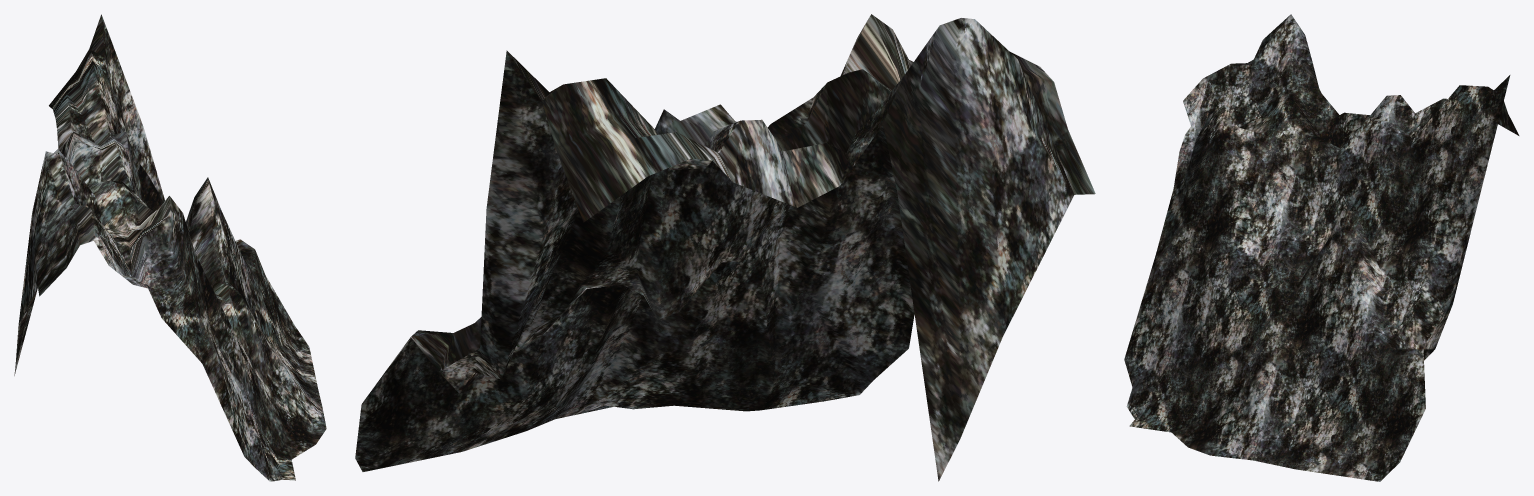
File: OVERHILL_A_01_MOUN1_OBJECT151.fbx
The picture shows the model from 3 angles, left to right: view 1: azimuth 30°, elevation 25°; view 2: azimuth 150°, elevation 25°; view 3: azimuth 270°, elevation 25°; orthographic projection. The views are drawn at different scales.
Parts seen in each view (by area): view 1: OVERHILL_A_01_MOUN1_OBJECT151; view 2: OVERHILL_A_01_MOUN1_OBJECT151; view 3: OVERHILL_A_01_MOUN1_OBJECT151.
Boxes of the visible parts, box(x1,y1,x2,y2) form: OVERHILL_A_01_MOUN1_OBJECT151: box(14, 14, 326, 481); OVERHILL_A_01_MOUN1_OBJECT151: box(355, 14, 1095, 481); OVERHILL_A_01_MOUN1_OBJECT151: box(1124, 14, 1519, 481).
Size of the model in its own units: 363165 by 337078 by 348747.
Materials: 1 (1 with a texture image).
